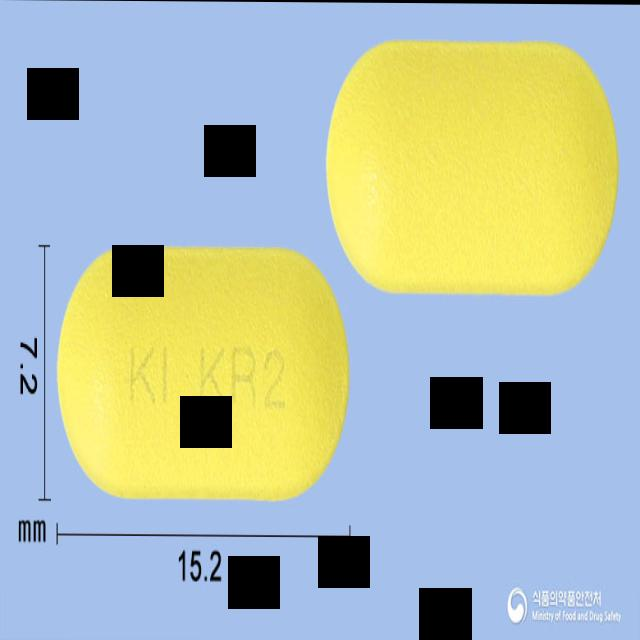Clarithromycin Tab- LGCI: (325, 38, 622, 299), (57, 241, 351, 502)
